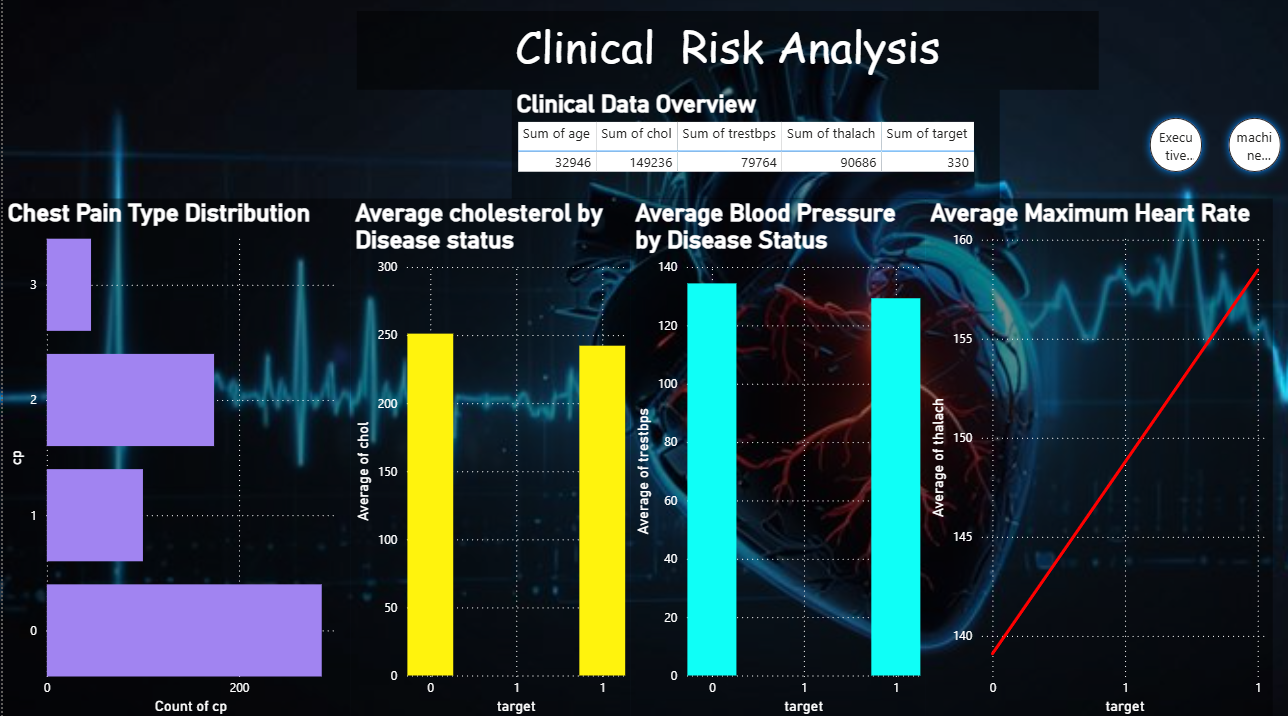

This screenshot's page, from the dashboard's own definition file:
{"tool":"powerbi","page":{"name":"Clinical Risk Analysis","canvas":[1280,720],"ordinal":1},"visuals":[{"type":"clusteredColumnChart","title":"Average cholesterol by Disease status","fields":{"Category":["heart_disease_dashboard.target"],"Y":["Avg(heart_disease_dashboard.chol)"]},"box":[345.8,201.7,278.6,518.7],"z":0},{"type":"clusteredColumnChart","title":"Average Blood Pressure by Disease Status","fields":{"Category":["heart_disease_dashboard.target"],"Y":["Avg(heart_disease_dashboard.trestbps)"]},"box":[624.4,201.7,293.7,518.7],"z":1000},{"type":"barChart","title":"Chest Pain Type Distribution","fields":{"Y":["CountNonNull(heart_disease_dashboard.cp)"],"Category":["heart_disease_dashboard.cp"]},"box":[0,201.7,345.8,518.7],"z":2000},{"type":"lineChart","title":"Average Maximum Heart Rate","fields":{"Category":["heart_disease_dashboard.target"],"Y":["Avg(heart_disease_dashboard.thalach)"]},"box":[918,201.7,345.8,518.7],"z":3000},{"type":"tableEx","title":"Clinical Data Overview","fields":{"Values":["Sum(heart_disease_dashboard.age)","Sum(heart_disease_dashboard.chol)","Sum(heart_disease_dashboard.trestbps)","Sum(heart_disease_dashboard.thalach)","Sum(heart_disease_dashboard.target)"]},"box":[506.3,93.3,485.8,108.4],"z":4000},{"type":"textbox","box":[352.7,15.1,738.3,78.2],"z":5000},{"type":"pageNavigator","box":[1133.2,113.2,146.8,70.9],"z":6000}]}

Visuals, with their boxes in screenshot pixels (x1, y1, x2, y2), scaled from the page's 1280x720 canvas onto the 1288x716 screenshot:
"Average cholesterol by Disease status" clusteredColumnChart: [348, 201, 628, 715]
"Average Blood Pressure by Disease Status" clusteredColumnChart: [628, 201, 924, 715]
"Chest Pain Type Distribution" barChart: [0, 201, 348, 715]
"Average Maximum Heart Rate" lineChart: [924, 201, 1272, 715]
"Clinical Data Overview" tableEx: [509, 93, 998, 201]
textbox: [355, 15, 1098, 93]
pageNavigator: [1140, 113, 1287, 183]
